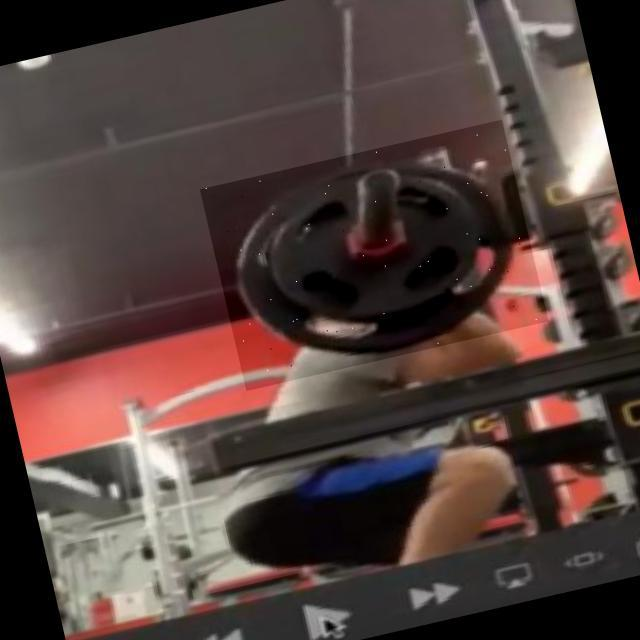barbell: (200, 120, 549, 391)
